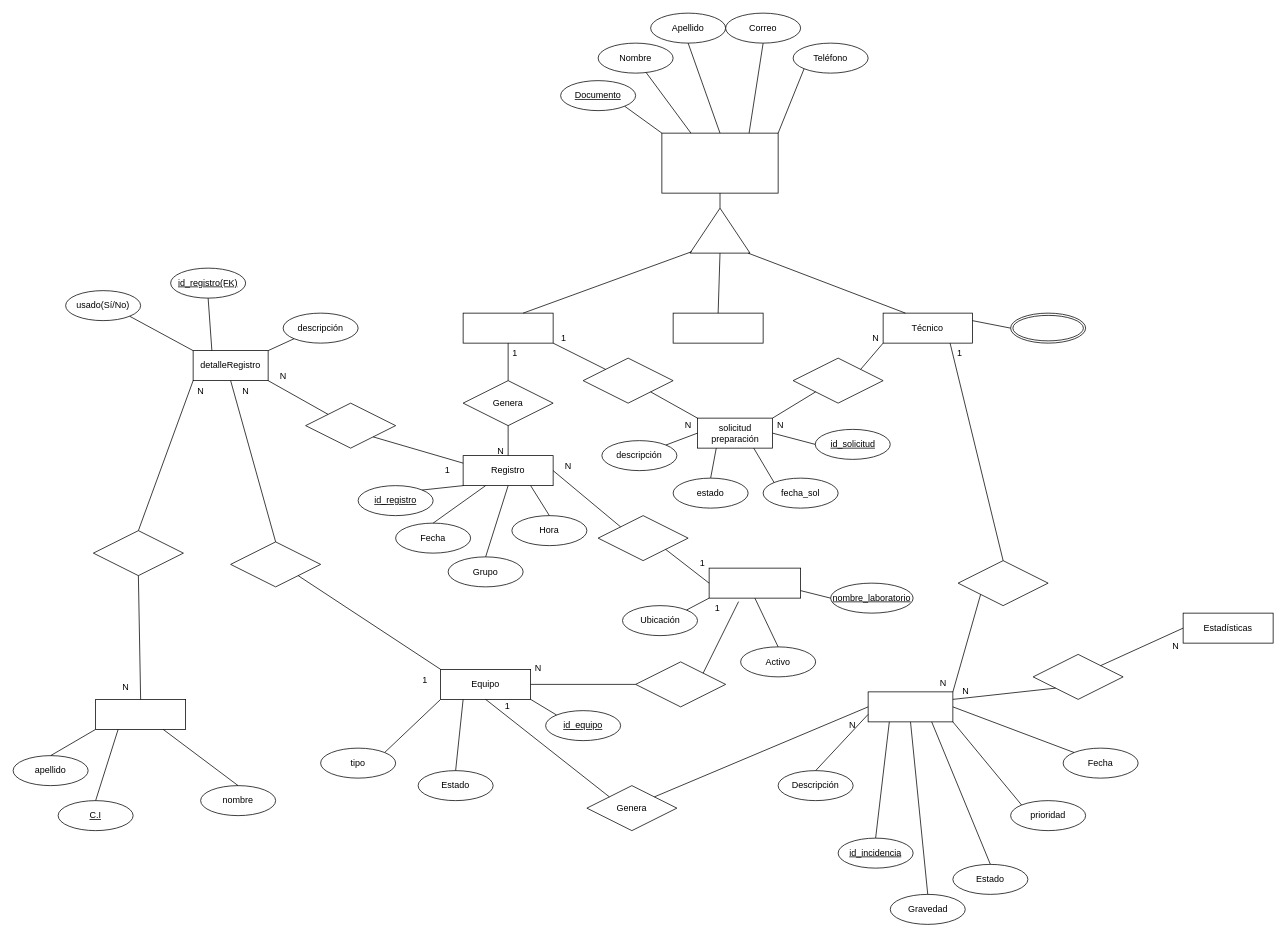
This 1286x938 diagram has some shape labels left out. Each missing label, with the box of its shape:
aparece_en: (93, 530, 183, 576)
Atiende: (792, 357, 883, 403)
Contiene: (305, 402, 396, 448)
Corresponde: (230, 541, 321, 587)
Director: (672, 312, 763, 343)
Docente: (462, 312, 553, 343)
Estudiante: (95, 699, 186, 729)
Laboratorio: (708, 567, 801, 598)
Ocurre: (597, 515, 688, 561)
Registra: (1032, 654, 1123, 699)
Resuelve: (957, 560, 1048, 606)
Solicita: (582, 357, 673, 403)
ticket: (867, 691, 953, 722)
Tiene: (635, 661, 726, 707)
Usuario: (661, 132, 778, 193)
Área responsable: (1010, 312, 1086, 343)
